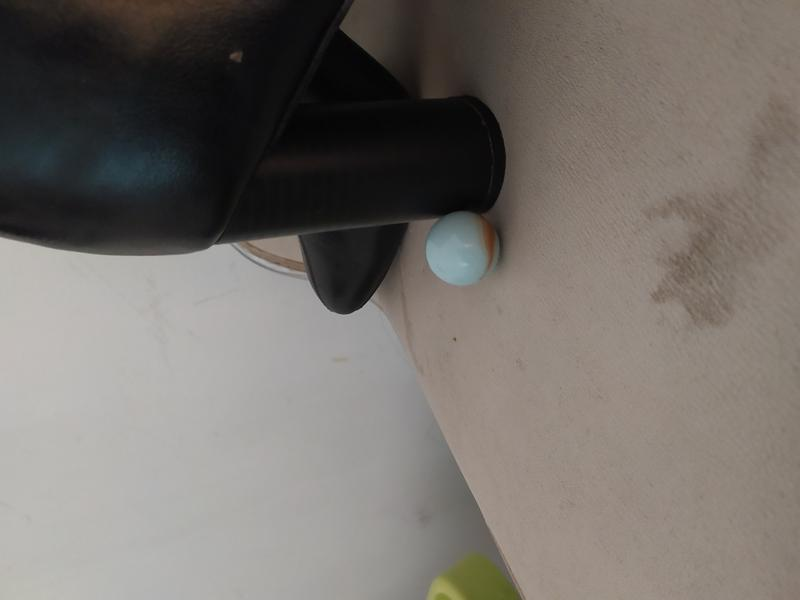Warning: (422, 209, 504, 288)
